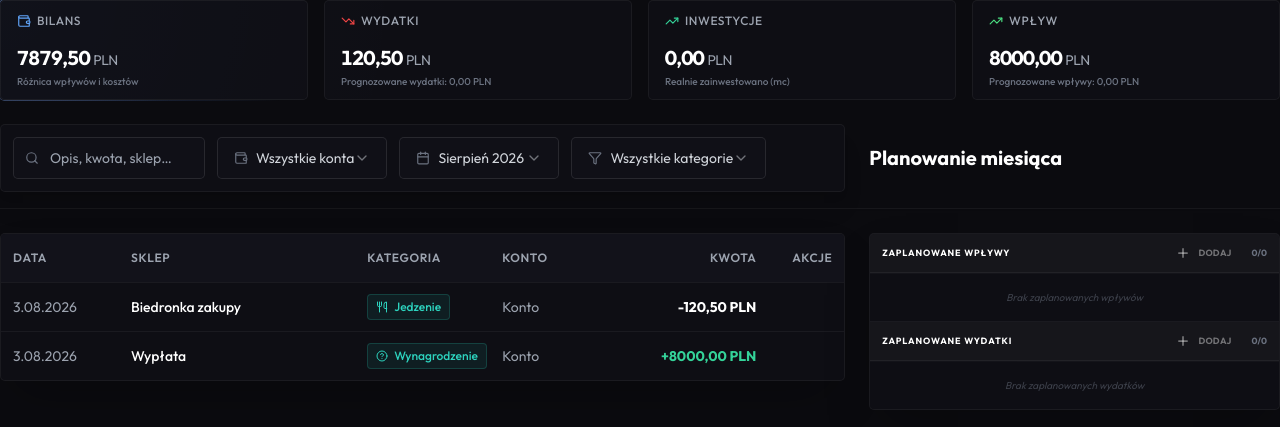
Test case: Transactions › kwotę z groszami znajduje po przecinku, tak jak ją widać na liście
Type "120,5" into the field with placeholder "Opis, kwota, sklep…".
click(109, 158); type("120,5")  # box [13,137,205,179]
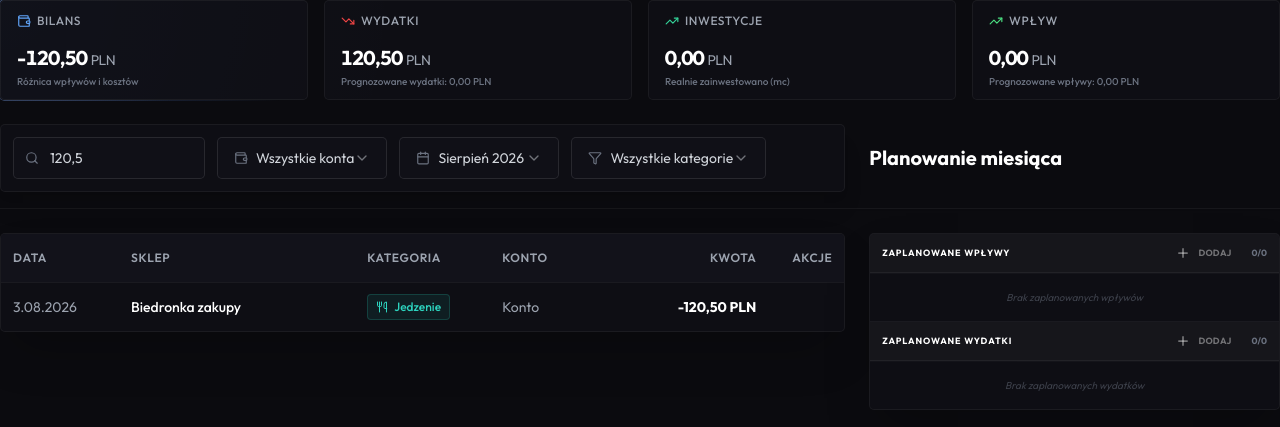
Expected: the text "Wypłata" is gone
